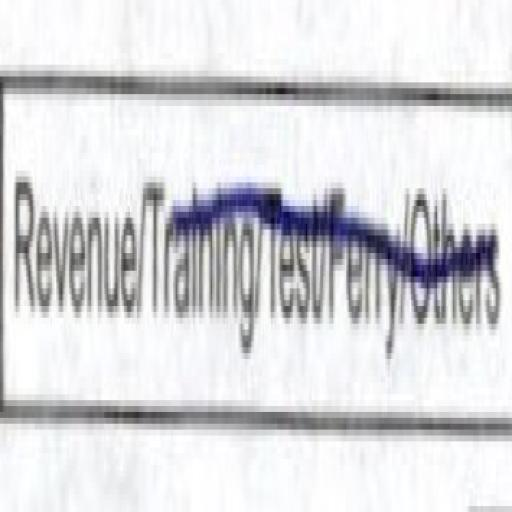check: (1, 16, 145, 499)
